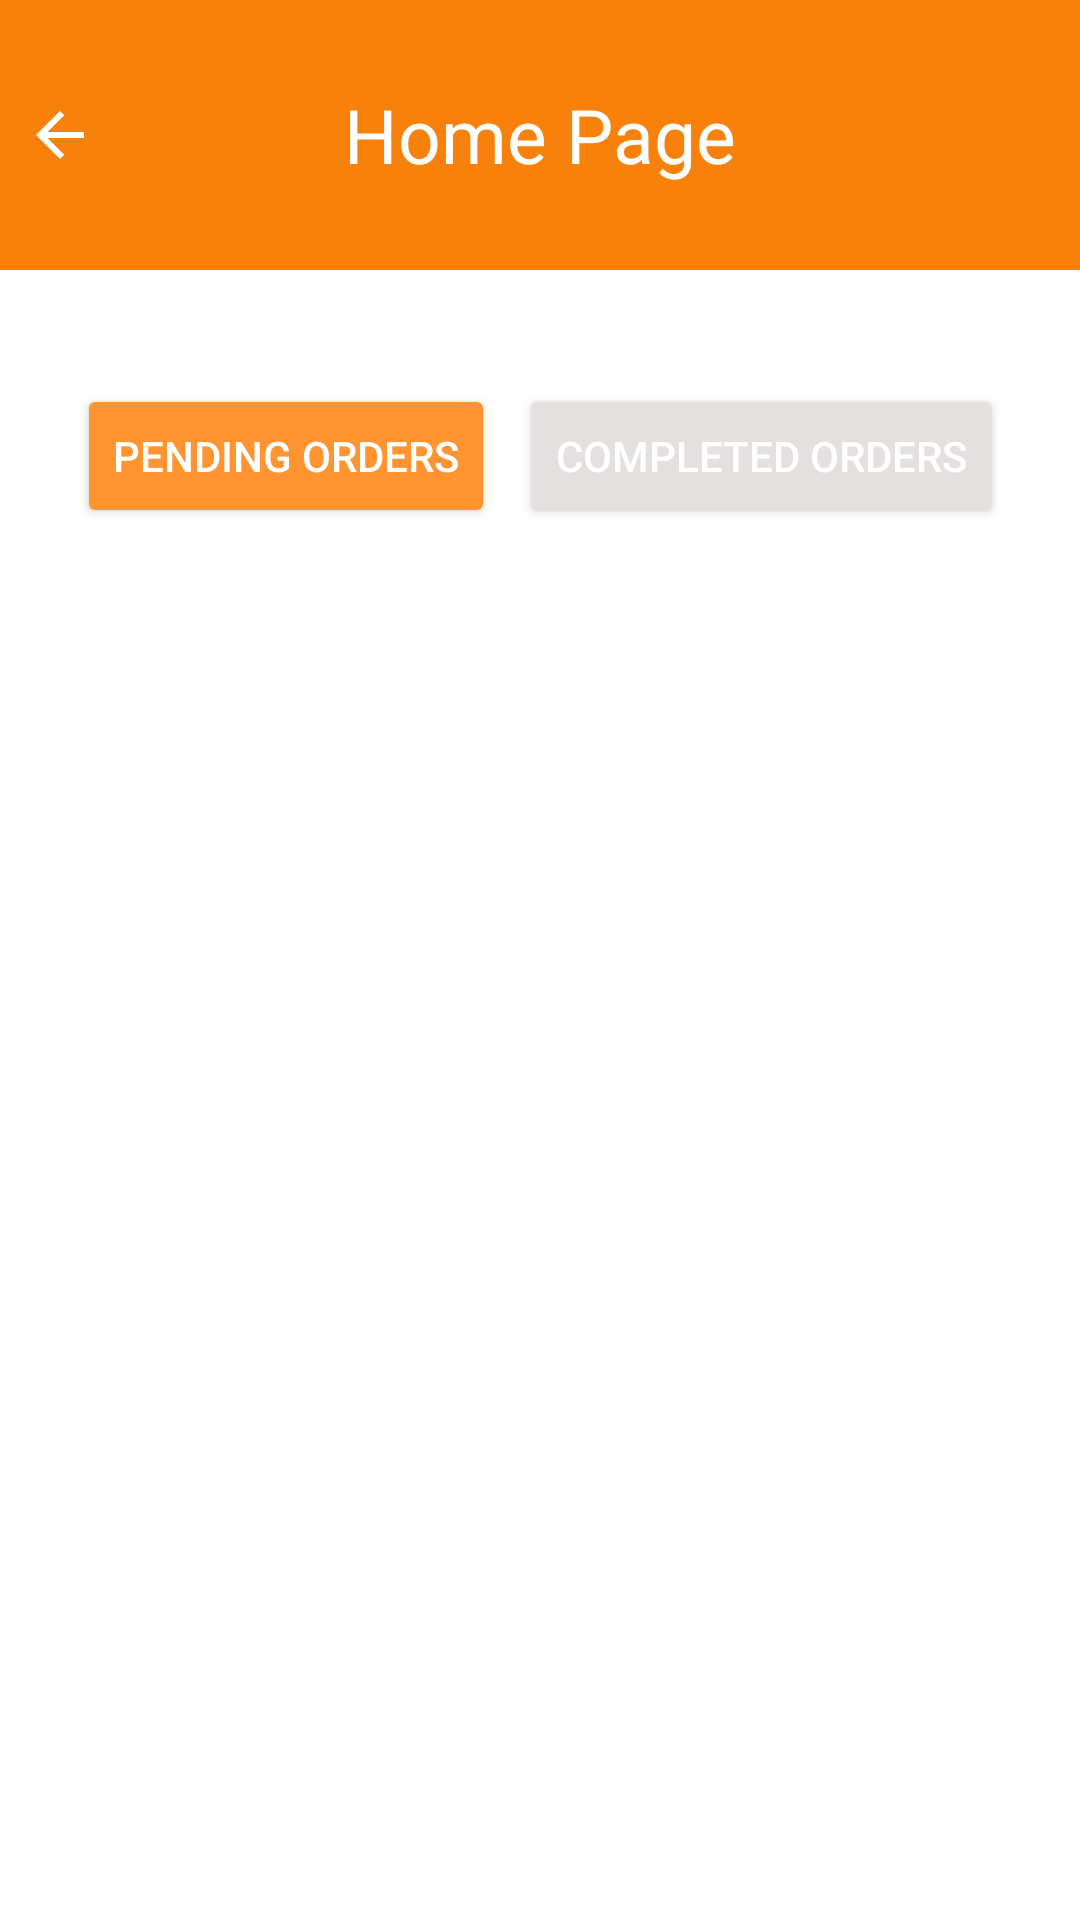

Icons on this 1080px x 1920px Android screen, each with its box as rect(x1, y1, x2, y2):
Back: rect(36, 111, 84, 159)
